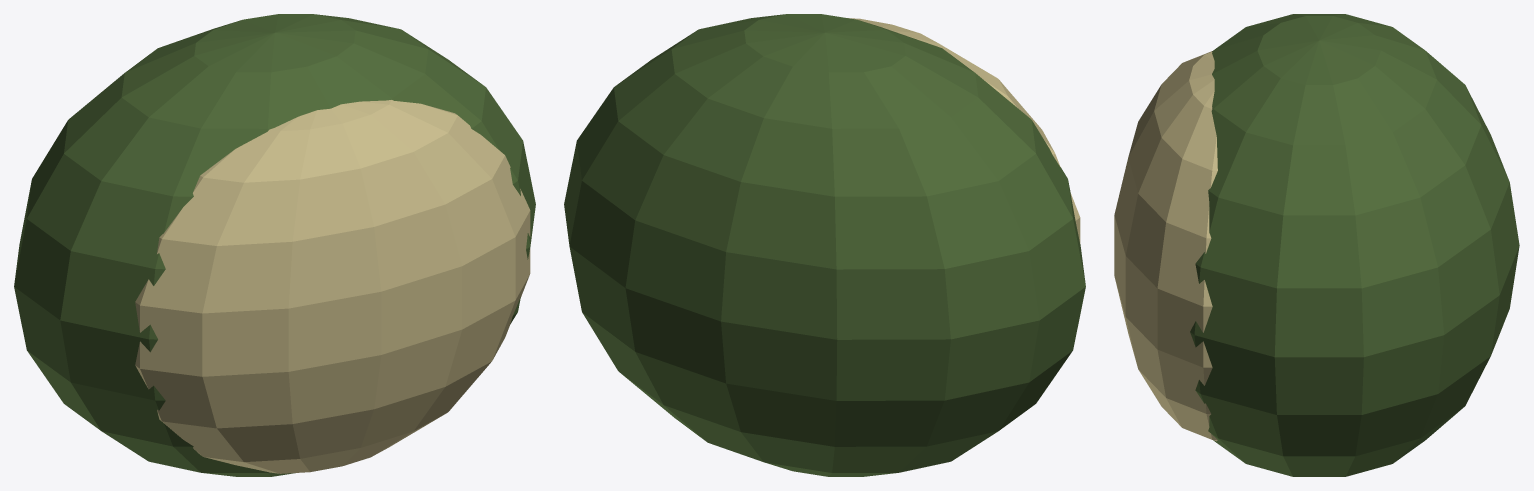
Rendered from pondkin_mudcaller_belly.glb.
3 renders of one model, left to right at view 1: azimuth 30°, elevation 25°; view 2: azimuth 150°, elevation 25°; view 3: azimuth 270°, elevation 25°, orthographic. The views are drawn at different scales.
Visible parts, largest first — view 1: pondkin_mudcaller_belly; view 2: pondkin_mudcaller_belly; view 3: pondkin_mudcaller_belly.
Boxes of the visible parts, x1=… form: pondkin_mudcaller_belly: x1=14, y1=14, x2=535, y2=476; pondkin_mudcaller_belly: x1=564, y1=14, x2=1085, y2=476; pondkin_mudcaller_belly: x1=1114, y1=14, x2=1519, y2=476.
Size of the model in its own units: 0.8189 by 0.7 by 0.6273.
